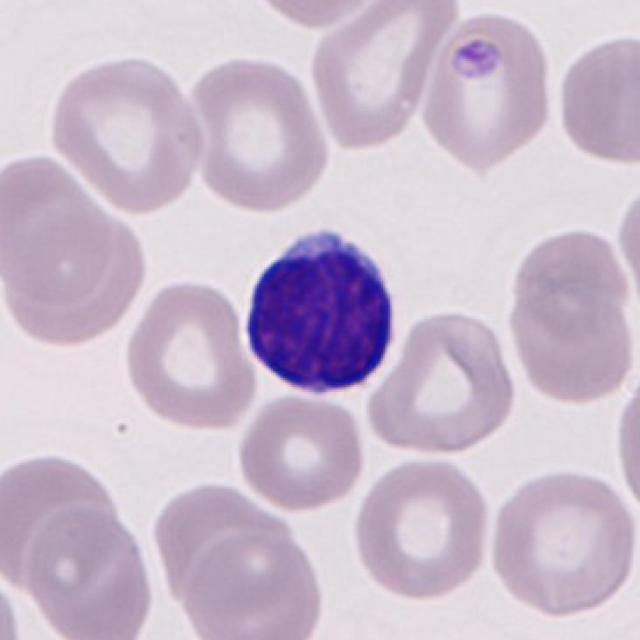Lymphocyte: (233, 219, 409, 404)
Platelets: (447, 30, 508, 87)
RBC: (44, 50, 208, 215), (360, 305, 523, 460), (184, 52, 334, 217), (484, 463, 638, 621), (304, 0, 462, 153), (416, 8, 560, 172), (119, 274, 262, 434), (348, 451, 497, 604), (0, 211, 150, 352), (145, 477, 299, 605), (0, 147, 119, 307), (21, 504, 161, 640), (0, 447, 122, 591), (233, 388, 369, 514), (178, 529, 329, 640), (504, 283, 636, 406), (506, 222, 636, 338), (552, 28, 640, 170), (240, 0, 392, 33), (610, 364, 640, 520), (612, 175, 640, 311), (0, 565, 26, 640)
